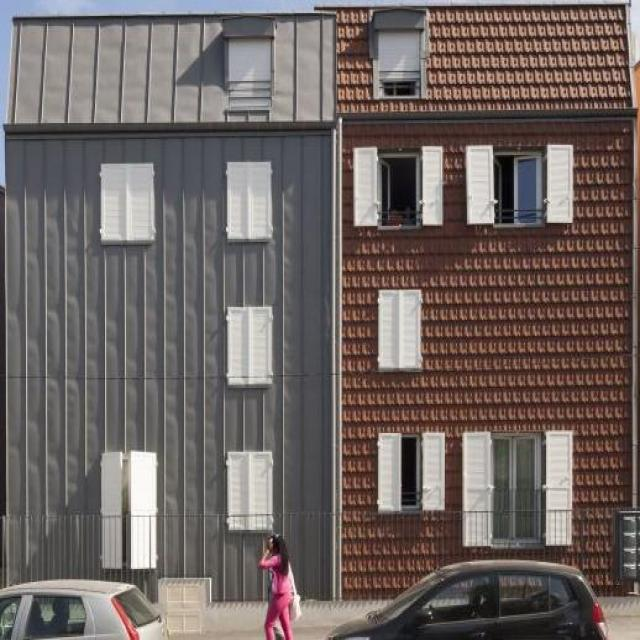Railing: (463, 508, 573, 546), (102, 510, 158, 564)
wall: (5, 4, 635, 601)
windows: (461, 432, 572, 508), (465, 148, 571, 225), (378, 433, 444, 510), (370, 148, 426, 228), (106, 160, 157, 243), (225, 450, 276, 527), (228, 307, 276, 385), (226, 162, 273, 240), (103, 451, 160, 508), (382, 288, 420, 372), (378, 29, 421, 97), (231, 36, 271, 105)
